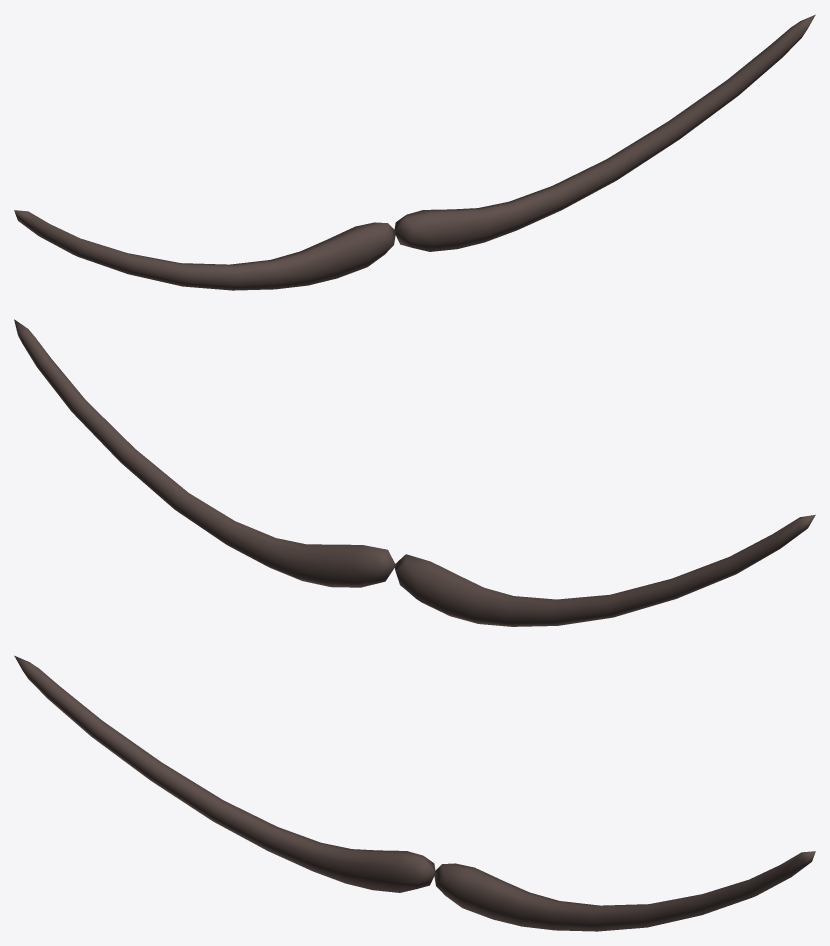
The model's file is Mustache_09.glb.
The picture shows the model from 3 angles, top to bottom: view 1: azimuth 30°, elevation 25°; view 2: azimuth 150°, elevation 25°; view 3: azimuth 330°, elevation 25°; orthographic projection.
Parts seen in each view (by area): view 1: Mustache_09; view 2: Mustache_09; view 3: Mustache_09.
Boxes of the visible parts, left/top/right/bottom form: Mustache_09: left=14, top=14, right=815, bottom=290; Mustache_09: left=14, top=319, right=815, bottom=626; Mustache_09: left=14, top=655, right=815, bottom=931.
Size of the model in its own units: 0.487 by 0.0972 by 0.0339.
1 material, 1 textured.
